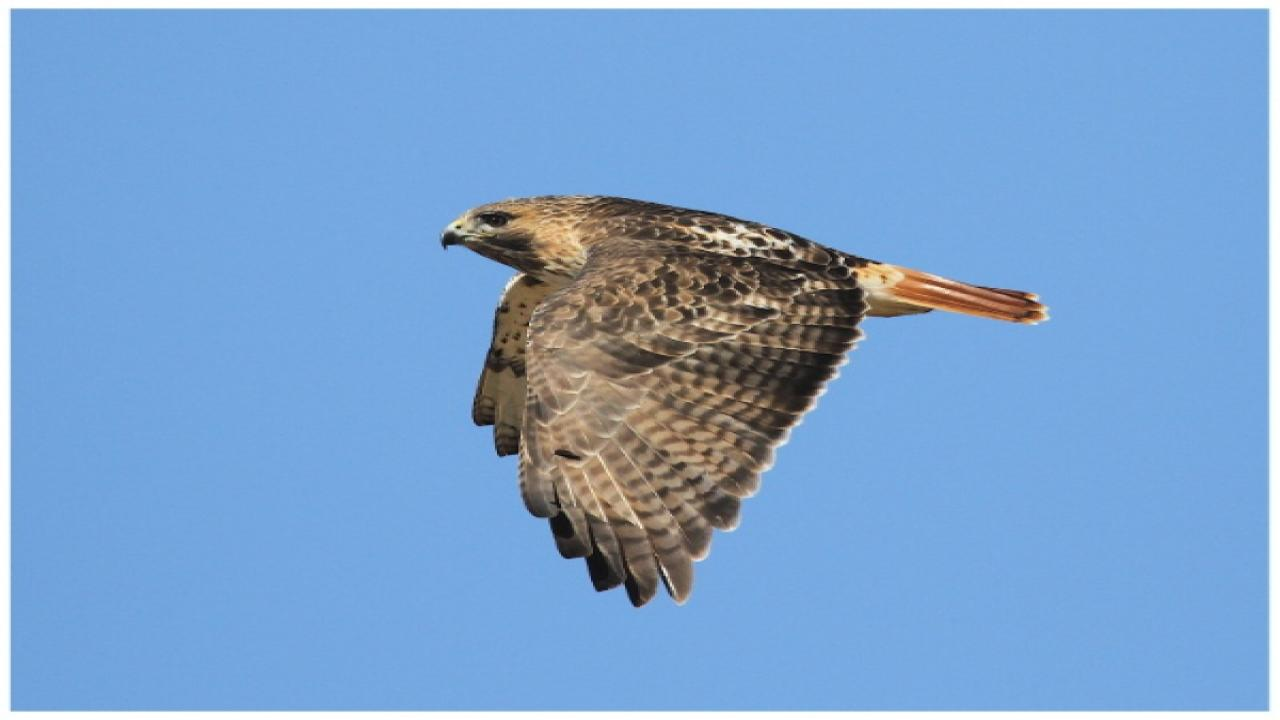Bird: (422, 185, 1064, 621)
